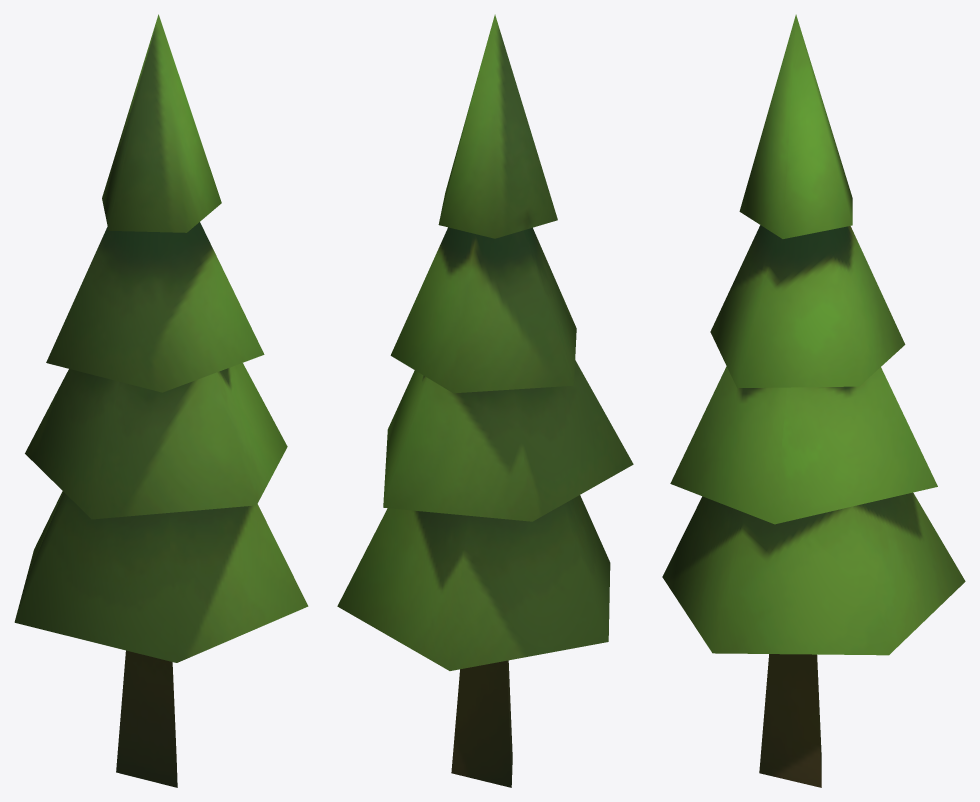
The model's file is Sce_worldmap_tree_b01.FBX.
The picture shows the model from 3 angles, left to right: view 1: azimuth 30°, elevation 25°; view 2: azimuth 150°, elevation 25°; view 3: azimuth 270°, elevation 25°; orthographic projection.
Visible parts, largest first — view 1: Sce_worldmap_tree_b01; view 2: Sce_worldmap_tree_b01; view 3: Sce_worldmap_tree_b01.
Boxes of the visible parts, <box> form: Sce_worldmap_tree_b01: <box>14,14,308,787</box>; Sce_worldmap_tree_b01: <box>337,14,633,787</box>; Sce_worldmap_tree_b01: <box>662,14,965,787</box>.
Bounding box in the file's own units: 39.37 × 116 × 41.88.
